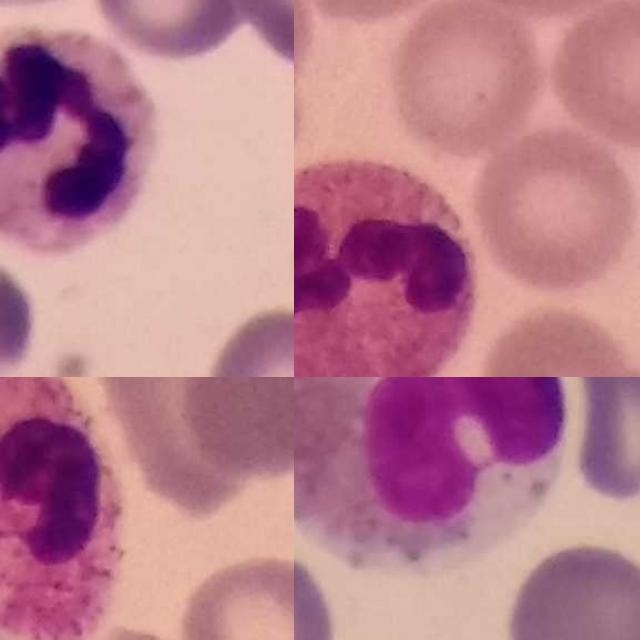Eosinophil: (294, 377, 566, 576)
Neutrophil: (294, 156, 476, 377), (0, 25, 157, 248), (0, 377, 122, 640)
